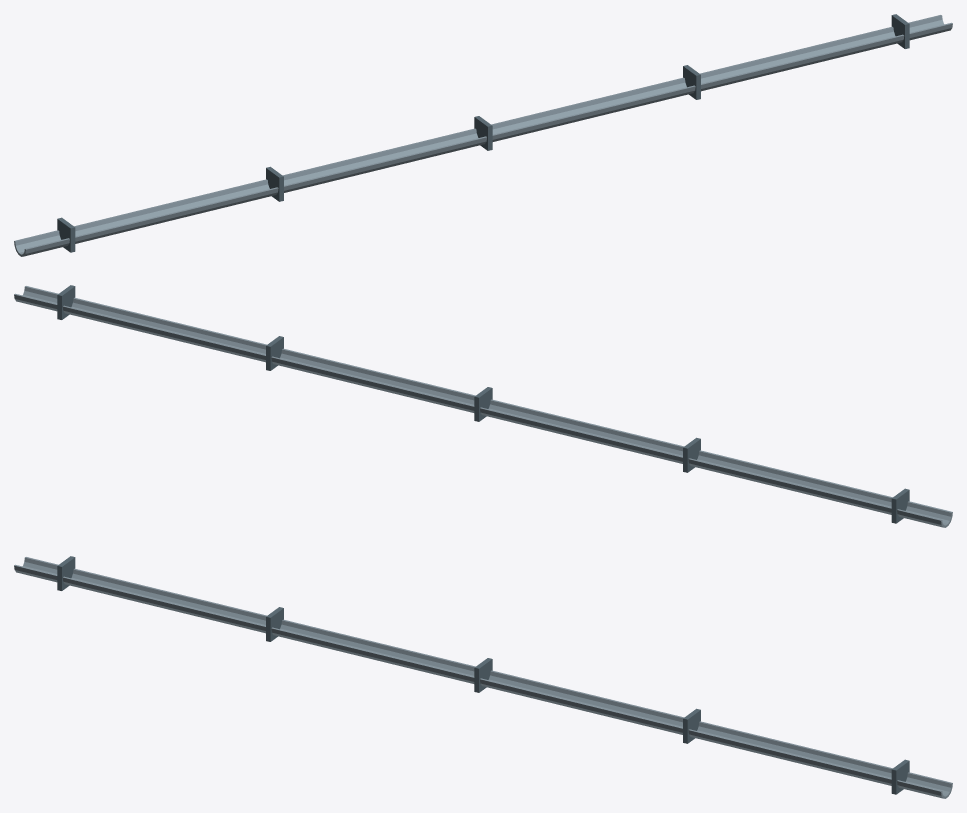
The model's file is school-gutter.glb.
The picture shows the model from 3 angles, top to bottom: view 1: azimuth 30°, elevation 25°; view 2: azimuth 150°, elevation 25°; view 3: azimuth 330°, elevation 25°; orthographic projection.
Parts seen in each view (by area): view 1: school-gutter; view 2: school-gutter; view 3: school-gutter.
Part boxes in pixels (x1=…): school-gutter: x1=14, y1=14, x2=952, y2=256; school-gutter: x1=14, y1=285, x2=952, y2=527; school-gutter: x1=14, y1=556, x2=952, y2=798.
Size of the model in its own units: 8 by 0.2002 by 0.2002.
